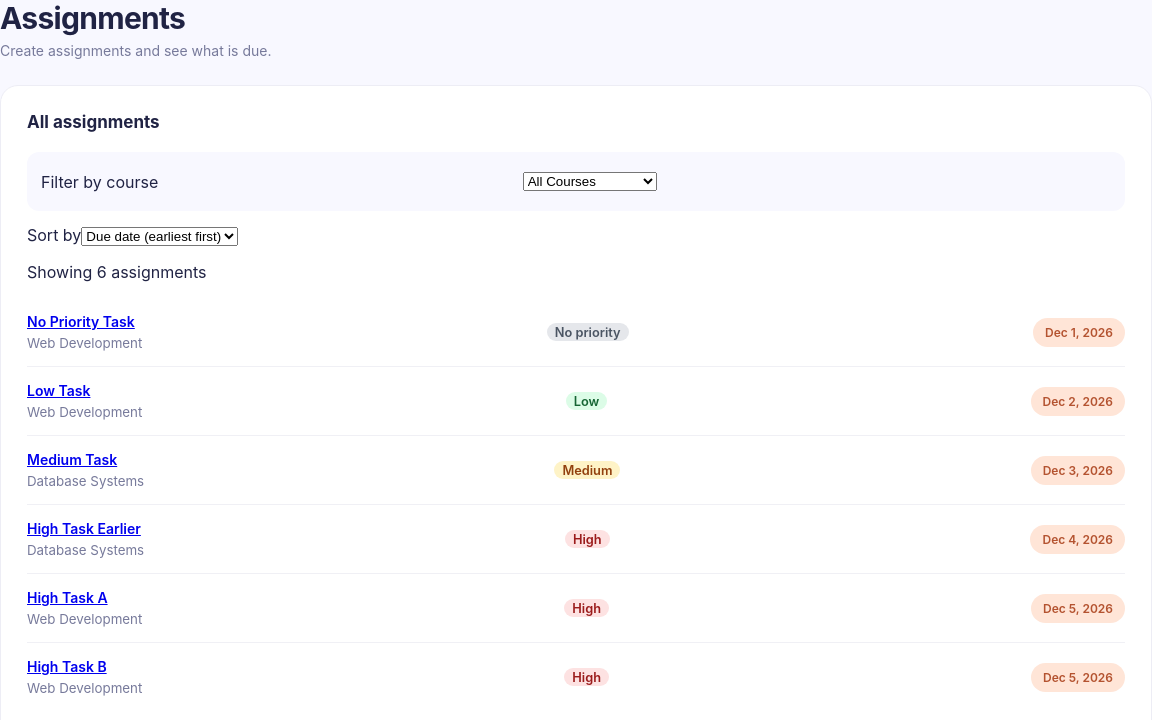
it: AssignmentsPage sorting › preserves sorting when assignments are filtered by course
Select "Priority (high to low)" in the dropdown labelled "Sort by" at point(160, 236), box [81, 227, 238, 246]
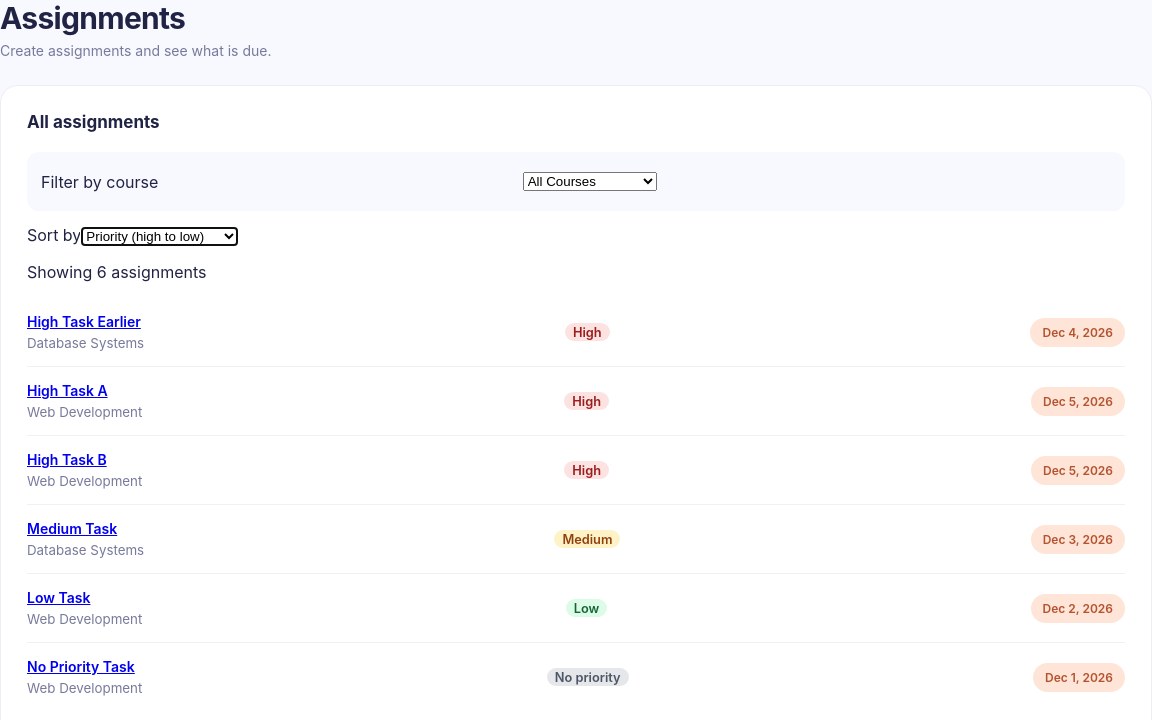
Select "Web Development" in the dropdown labelled "Filter by course" at point(590, 182), box [523, 172, 657, 191]
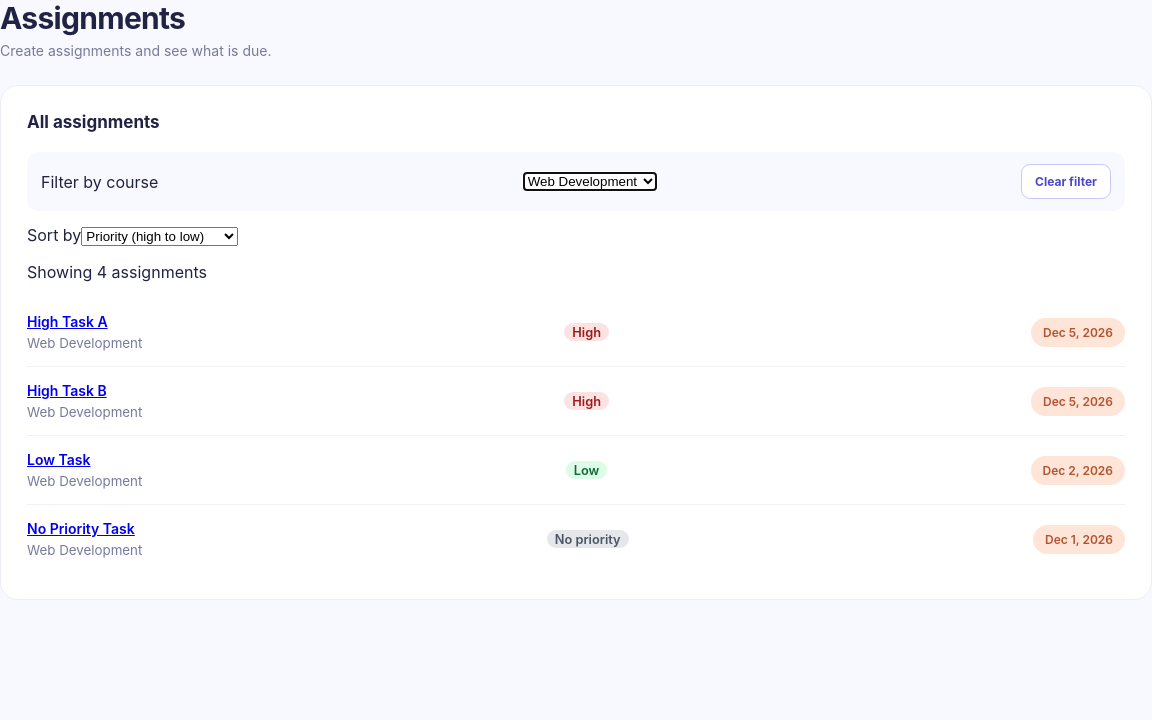
Result: the text "Showing 4 assignments" is shown at [27, 262, 207, 282]
